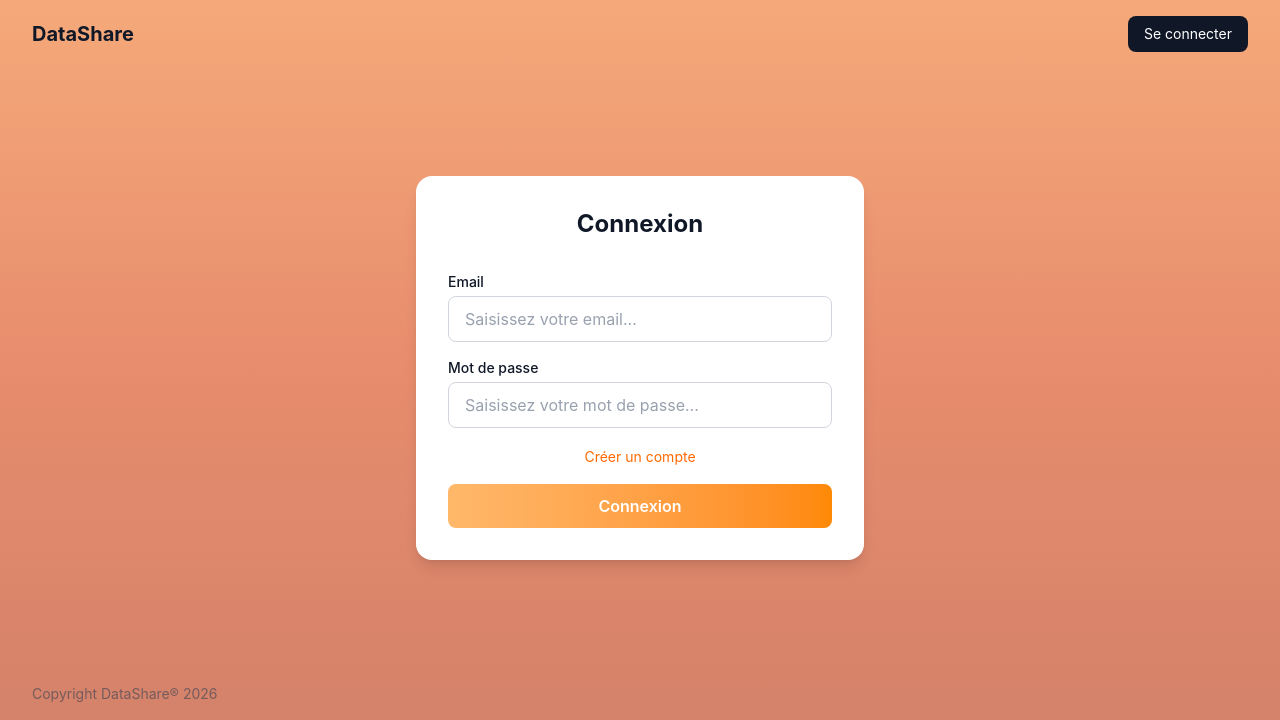
Test case: Login Component (Integration) › affiche une erreur si l API renvoie une 401 (mauvais mot de passe)
Note: On tape des identifiants
In the field with placeholder "Saisissez votre email...": (640, 319) [448,296,832,342], type "test@test.com"
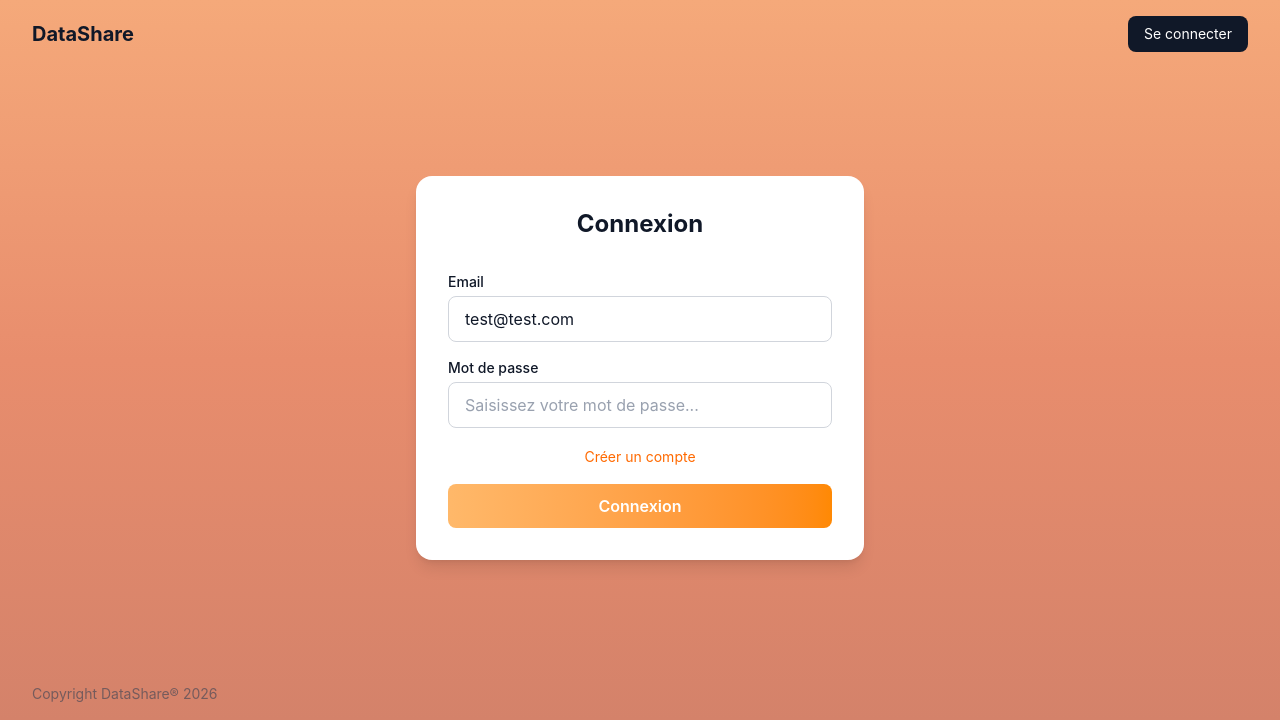
In the password field with placeholder "Saisissez votre mot de passe...": (640, 405) [448,382,832,428], type "mauvaispass"
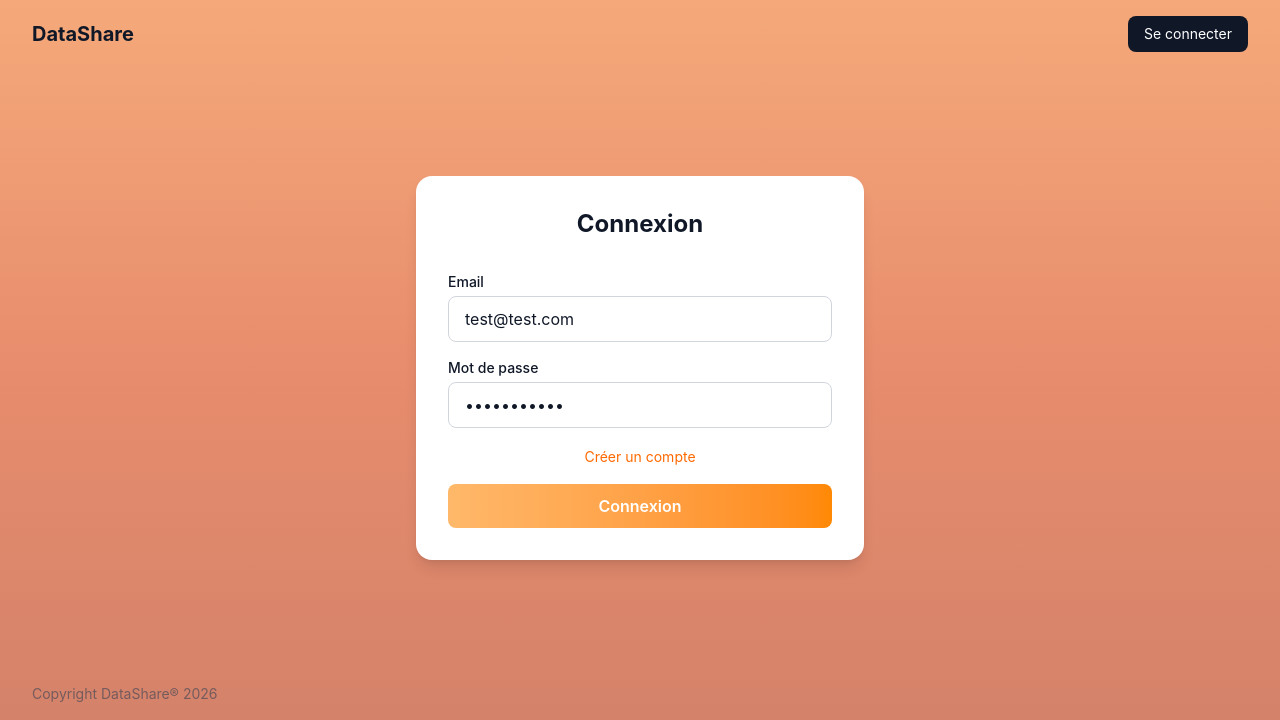
Note: On soumet
Click the button "Connexion": (640, 506) [448,484,832,528]
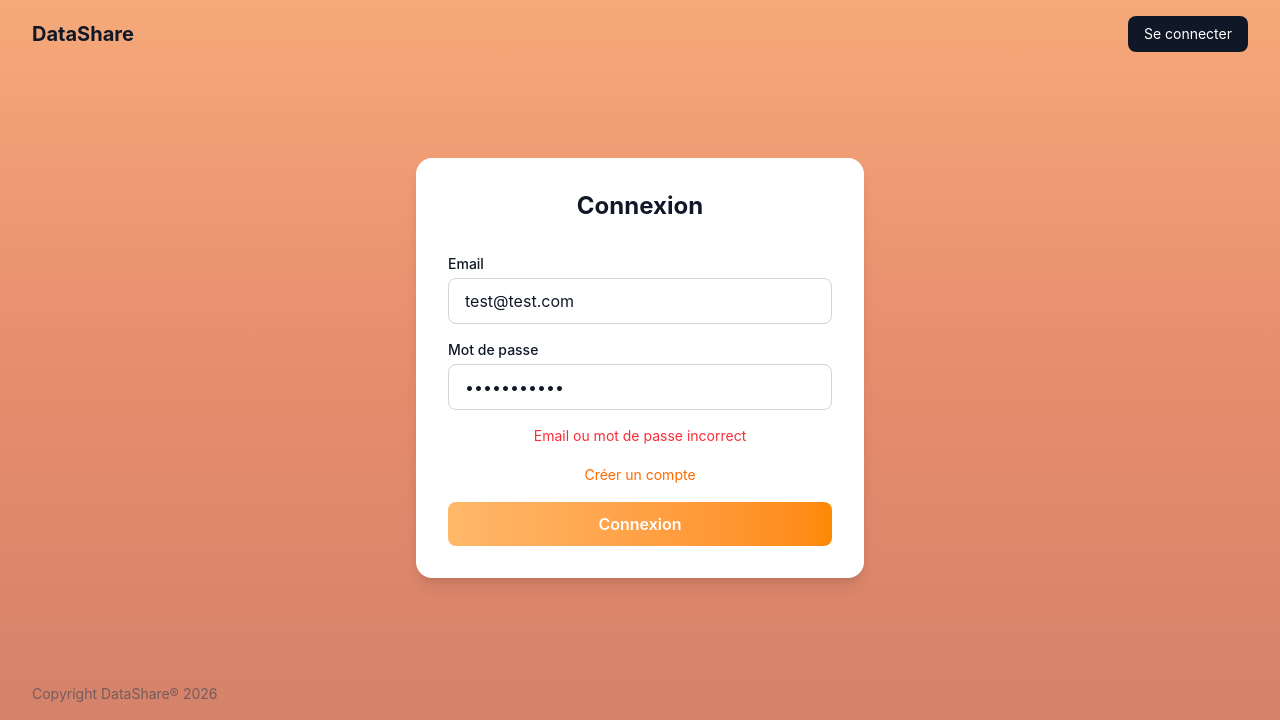
Expected: the text "Email ou mot de passe incorrect" is shown, [534,427,746,444]
